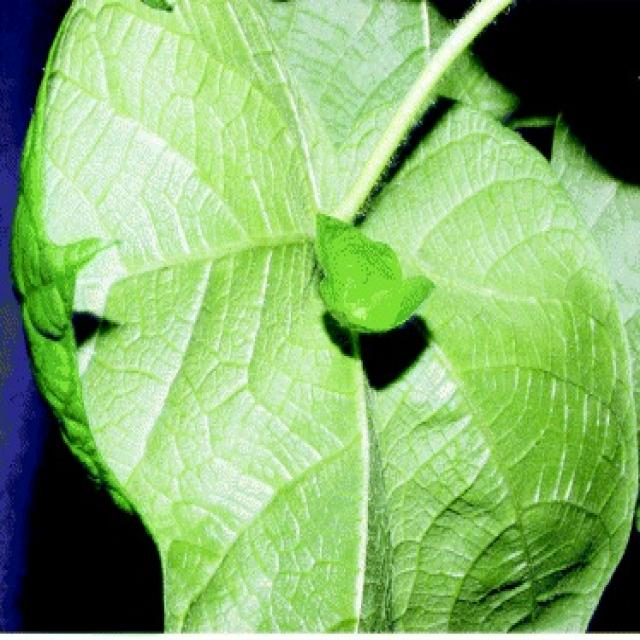Leaf Curl Virus: (25, 16, 640, 640)
